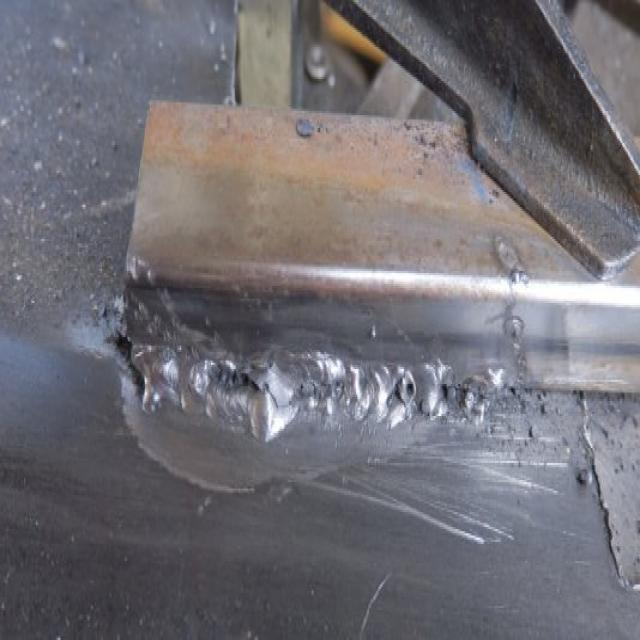Bad Weld: (133, 328, 482, 472)
Defect: (399, 369, 456, 420), (212, 358, 265, 399)
